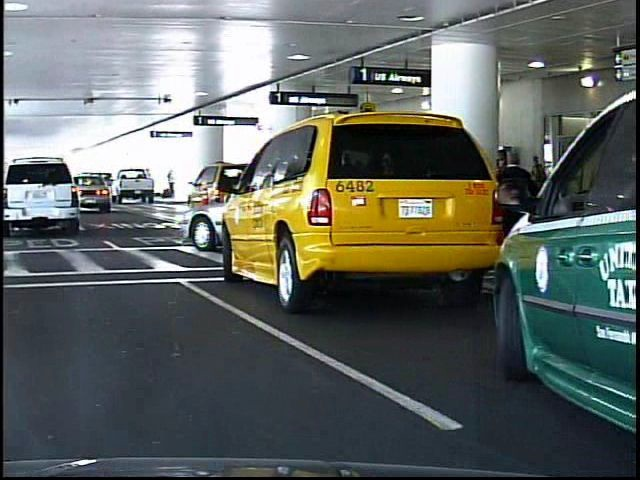person: (491, 149, 533, 287), (163, 169, 172, 199)
